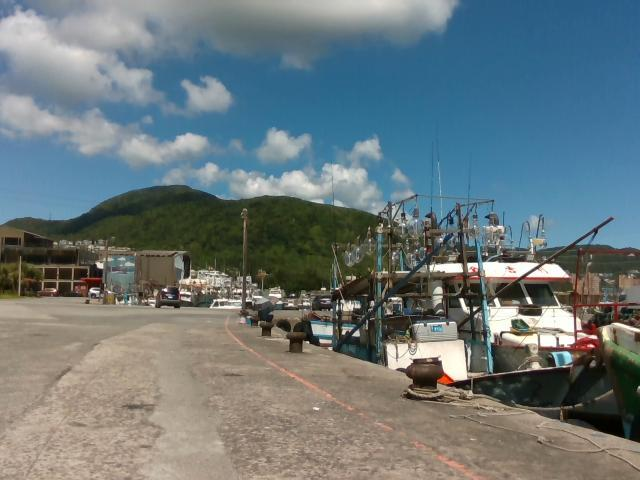pollute: (239, 315, 247, 325)
